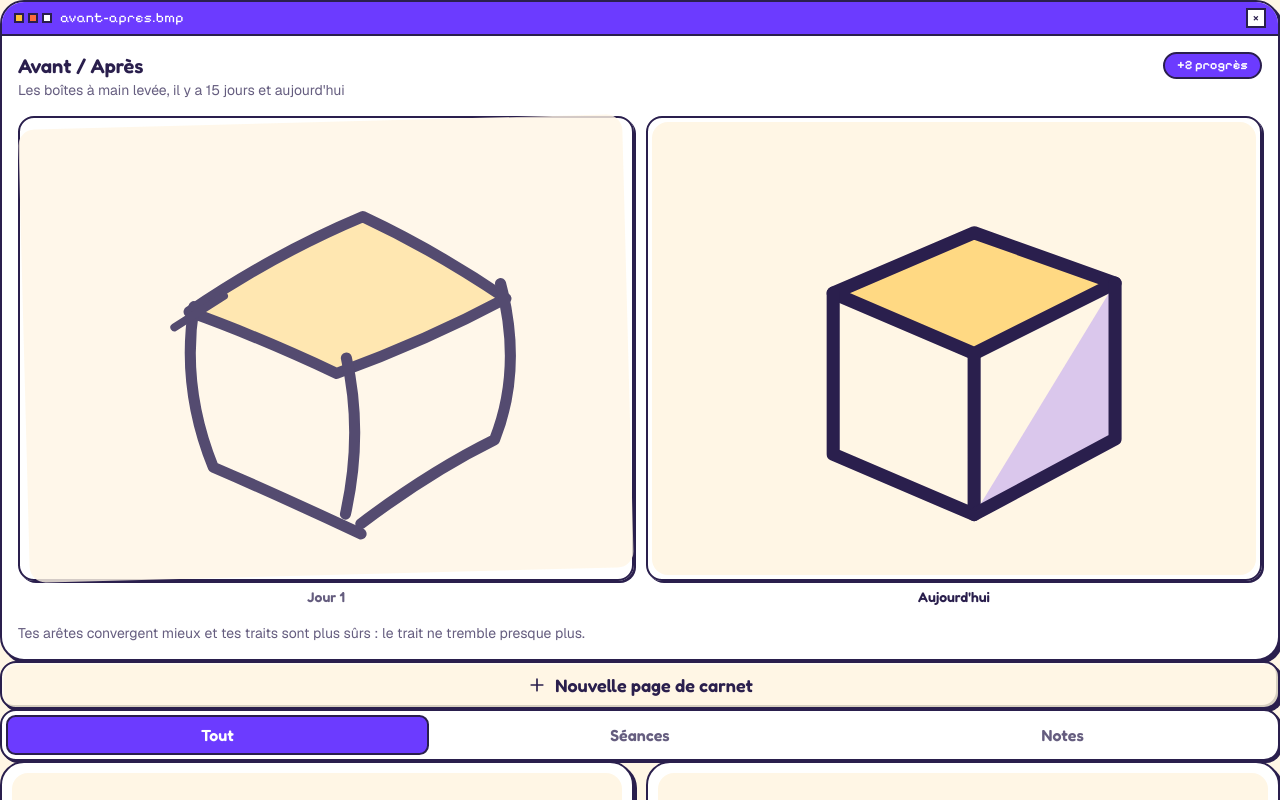
Test case: Journal › says that new pages are not there yet
Click the button "Nouvelle page de carnet".
click(640, 685)  # box [0, 661, 1279, 709]
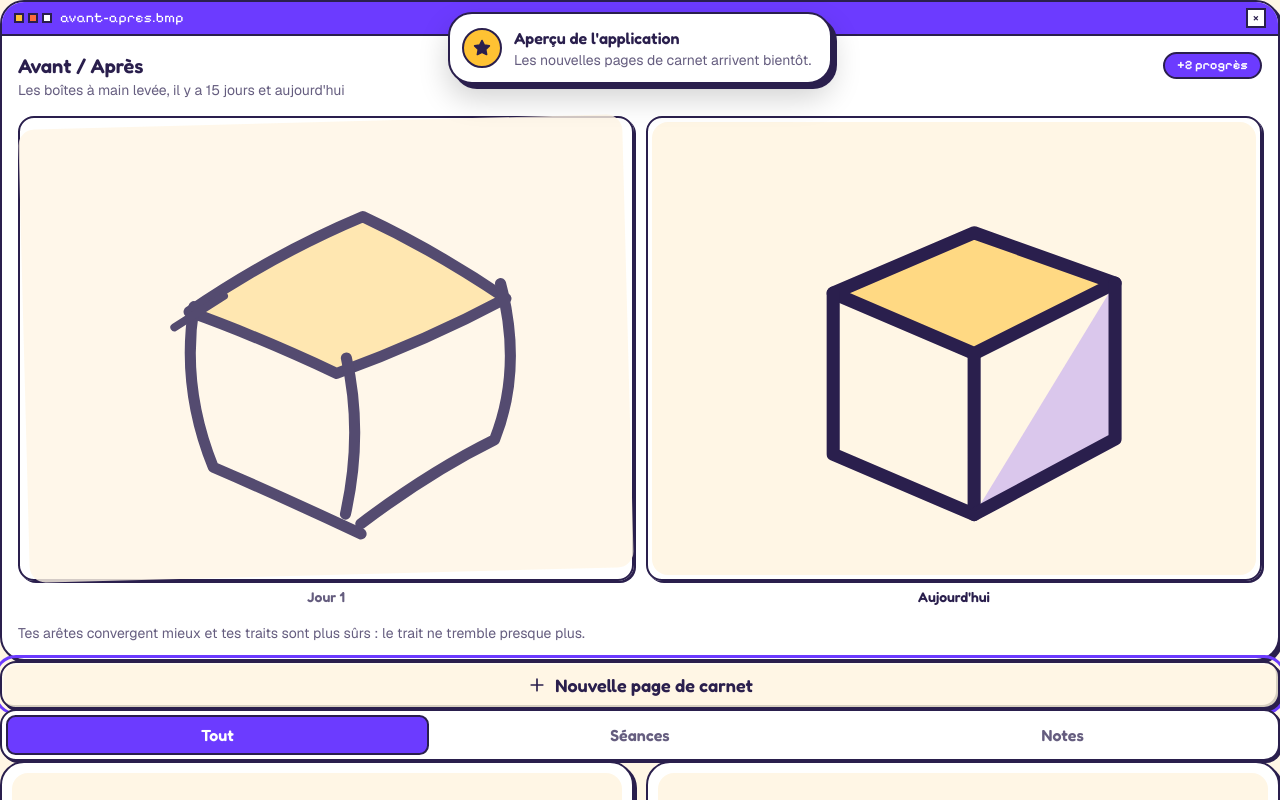
Now the message shows "arrivent bientôt", box [448, 12, 832, 84]
